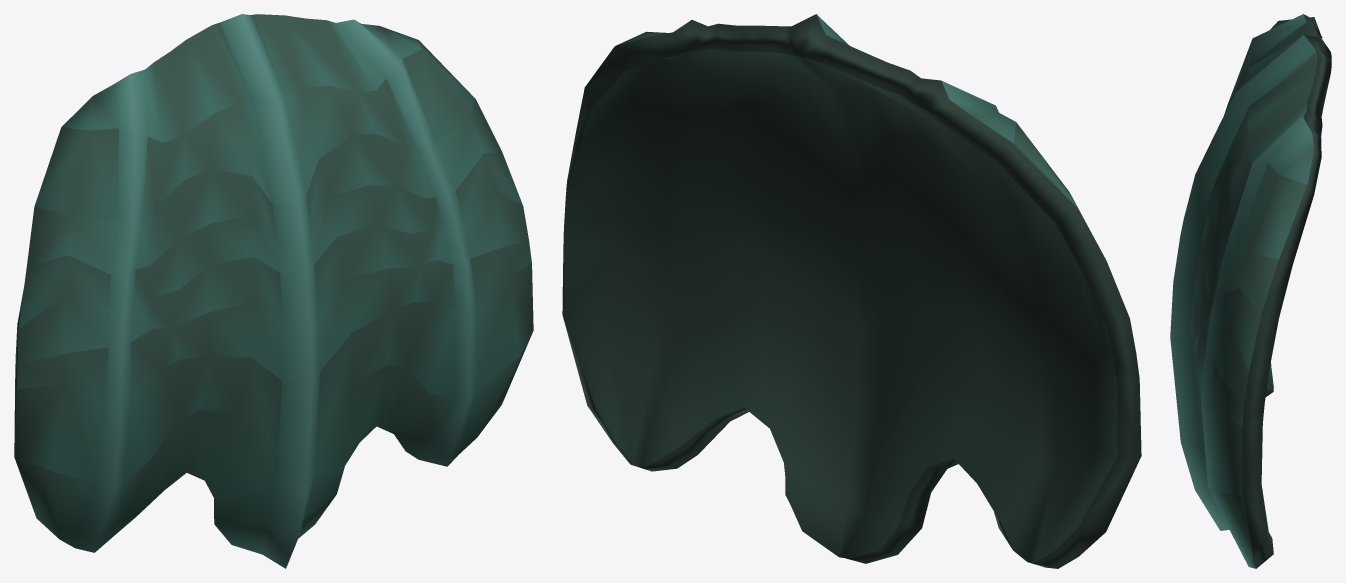
The picture shows the model from 3 angles, left to right: view 1: azimuth 30°, elevation 25°; view 2: azimuth 150°, elevation 25°; view 3: azimuth 270°, elevation 25°; orthographic projection. The views are drawn at different scales.
Visible parts, largest first — view 1: alt1.228; view 2: alt1.228; view 3: alt1.228.
Part boxes in pixels (x1,y1,x2,y2): alt1.228: [14, 14, 533, 568]; alt1.228: [562, 14, 1141, 568]; alt1.228: [1170, 14, 1331, 568].
Size of the model in its own units: 0.5 by 0.481 by 0.1419.
